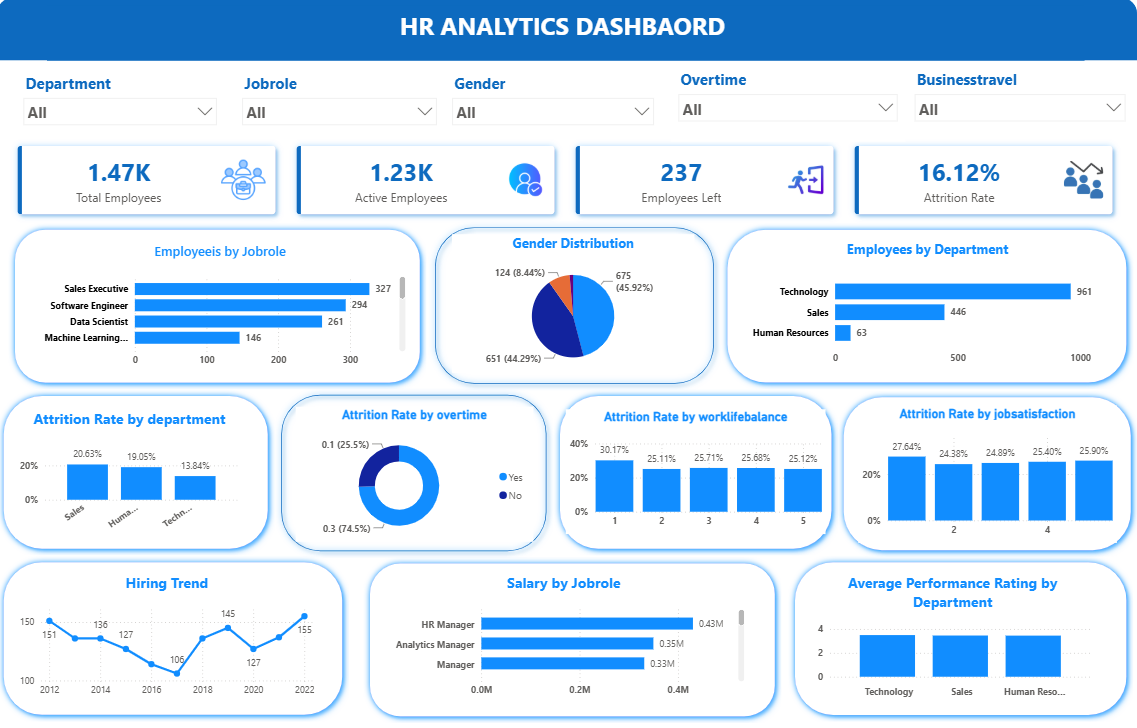

The page's visual inventory and layout, read from the dashboard file:
{"tool":"powerbi","page":{"name":"Page 1","canvas":[1520,975],"ordinal":0},"visuals":[{"type":"cardVisual","fields":{"Data":["public hr_analytics.Total Employees","public hr_analytics.Active Employees","public hr_analytics.Employees Left","public hr_analytics.Attrition Rate"]},"box":[0,170,1515,145],"z":0},{"type":"shape","title":"HR Analytics Dashboard","box":[0,0,1520,83.3],"z":1000},{"type":"textbox","box":[66.7,10,1383.3,73.3],"z":2000},{"type":"slicer","fields":{"Values":["public hr_analytics.department"]},"box":[25,95,278.1,79.7],"z":3000},{"type":"slicer","fields":{"Values":["public hr_analytics.jobrole"]},"box":[316.7,95,279.9,79.4],"z":4000},{"type":"slicer","fields":{"Values":["public hr_analytics.gender"]},"box":[596.7,95,289.1,79.7],"z":5000},{"type":"slicer","fields":{"Values":["public hr_analytics.overtime"]},"box":[898.3,90,312.5,101.6],"z":6000},{"type":"slicer","fields":{"Values":["public hr_analytics.businesstravel"]},"box":[1213.3,90,301.6,96.9],"z":7000},{"type":"shape","box":[15.6,300,557.8,221.9],"z":8000},{"type":"barChart","title":"Employeeis by Jobrole","fields":{"Category":["public hr_analytics.jobrole"],"Y":["public hr_analytics.Total Employees"]},"box":[45.3,325,504.7,175],"z":9000},{"type":"shape","box":[575,296.7,390,226.7],"z":10000},{"type":"shape","box":[965,300,550,221.7],"z":11000},{"type":"barChart","title":"Employees by Department","fields":{"Category":["public hr_analytics.department"],"Y":["public hr_analytics.Total Employees"]},"box":[1001.7,323.3,478.1,175],"z":12000},{"type":"pieChart","title":"Gender Distribution","fields":{"Category":["public hr_analytics.gender"],"Y":["public hr_analytics.Total Employees"]},"box":[606.7,315,323.3,185],"z":13000},{"type":"shape","box":[0,521.7,370,221.7],"z":14000},{"type":"columnChart","fields":{"Y":["public hr_analytics.Attrition Rate"],"Category":["public hr_analytics.department"]},"box":[25,548.3,303.3,171.7],"z":15000},{"type":"shape","box":[0,743.3,469.3,221.4],"z":16000},{"type":"lineChart","title":"Hiring Trend","fields":{"Y":["public hr_analytics.Total Employees"],"Category":["public hr_analytics.hiredate.Variation.Date Hierarchy.Year"]},"box":[25,766.7,403.1,173.4],"z":17000},{"type":"shape","box":[1120,523.3,400.7,221.9],"z":18000},{"type":"columnChart","fields":{"Y":["public hr_analytics.Attrition Rate"],"Category":["public hr_analytics.jobsatisfaction"]},"box":[1148.3,543.3,344.4,183.3],"z":19000},{"type":"shape","box":[370,520,371.7,226.7],"z":20000},{"type":"donutChart","fields":{"Category":["public hr_analytics.overtime"],"Y":["public hr_analytics.Attrition Rate"]},"box":[398.3,545,316.7,180],"z":21000},{"type":"shape","box":[741.7,521.7,380,221.7],"z":22000},{"type":"columnChart","fields":{"Category":["public hr_analytics.worklifebalance"],"Y":["public hr_analytics.Attrition Rate"]},"box":[758.3,548.3,346.7,166.7],"z":23000},{"type":"shape","box":[488.3,745,557.8,221.9],"z":24000},{"type":"barChart","title":"Salary by Jobrole","fields":{"Category":["public hr_analytics.jobrole"],"Y":["Avg(public hr_analytics.salary)"]},"box":[510,766.7,491.7,173.3],"z":25000},{"type":"shape","box":[1055,743.3,460,221.7],"z":26000},{"type":"columnChart","title":"Average Performance Rating by Department","fields":{"Category":["public hr_analytics.department"],"Y":["Avg(public hr_analytics.managerrating)"]},"box":[1081.7,766.7,385,173.3],"z":27000}]}

Visuals, with their boxes in screenshot pixels (x1, y1, x2, y2), scaled from the page's 1520x975 canvas onto the 1137x728 screenshot:
cardVisual - public hr_analytics.Total Employees x public hr_analytics.Active Employees: {"x1": 0, "y1": 127, "x2": 1133, "y2": 235}
"HR Analytics Dashboard" shape: {"x1": 0, "y1": 0, "x2": 1136, "y2": 62}
textbox: {"x1": 50, "y1": 7, "x2": 1085, "y2": 62}
slicer - public hr_analytics.department: {"x1": 19, "y1": 71, "x2": 227, "y2": 130}
slicer - public hr_analytics.jobrole: {"x1": 237, "y1": 71, "x2": 446, "y2": 130}
slicer - public hr_analytics.gender: {"x1": 446, "y1": 71, "x2": 663, "y2": 130}
slicer - public hr_analytics.overtime: {"x1": 672, "y1": 67, "x2": 906, "y2": 143}
slicer - public hr_analytics.businesstravel: {"x1": 908, "y1": 67, "x2": 1133, "y2": 140}
shape: {"x1": 12, "y1": 224, "x2": 429, "y2": 390}
"Employeeis by Jobrole" barChart: {"x1": 34, "y1": 243, "x2": 411, "y2": 373}
shape: {"x1": 430, "y1": 222, "x2": 722, "y2": 391}
shape: {"x1": 722, "y1": 224, "x2": 1133, "y2": 390}
"Employees by Department" barChart: {"x1": 749, "y1": 241, "x2": 1107, "y2": 372}
"Gender Distribution" pieChart: {"x1": 454, "y1": 235, "x2": 696, "y2": 373}
shape: {"x1": 0, "y1": 390, "x2": 277, "y2": 555}
columnChart - public hr_analytics.Attrition Rate x public hr_analytics.department: {"x1": 19, "y1": 409, "x2": 246, "y2": 538}
shape: {"x1": 0, "y1": 555, "x2": 351, "y2": 720}
"Hiring Trend" lineChart: {"x1": 19, "y1": 572, "x2": 320, "y2": 702}
shape: {"x1": 838, "y1": 391, "x2": 1136, "y2": 556}
columnChart - public hr_analytics.Attrition Rate x public hr_analytics.jobsatisfaction: {"x1": 859, "y1": 406, "x2": 1117, "y2": 543}
shape: {"x1": 277, "y1": 388, "x2": 555, "y2": 558}
donutChart - public hr_analytics.overtime x public hr_analytics.Attrition Rate: {"x1": 298, "y1": 407, "x2": 535, "y2": 541}
shape: {"x1": 555, "y1": 390, "x2": 839, "y2": 555}
columnChart - public hr_analytics.worklifebalance x public hr_analytics.Attrition Rate: {"x1": 567, "y1": 409, "x2": 827, "y2": 534}
shape: {"x1": 365, "y1": 556, "x2": 783, "y2": 722}
"Salary by Jobrole" barChart: {"x1": 381, "y1": 572, "x2": 749, "y2": 702}
shape: {"x1": 789, "y1": 555, "x2": 1133, "y2": 721}
"Average Performance Rating by Department" columnChart: {"x1": 809, "y1": 572, "x2": 1097, "y2": 702}
